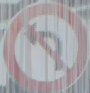Don't turn left: (9, 5, 76, 79)
